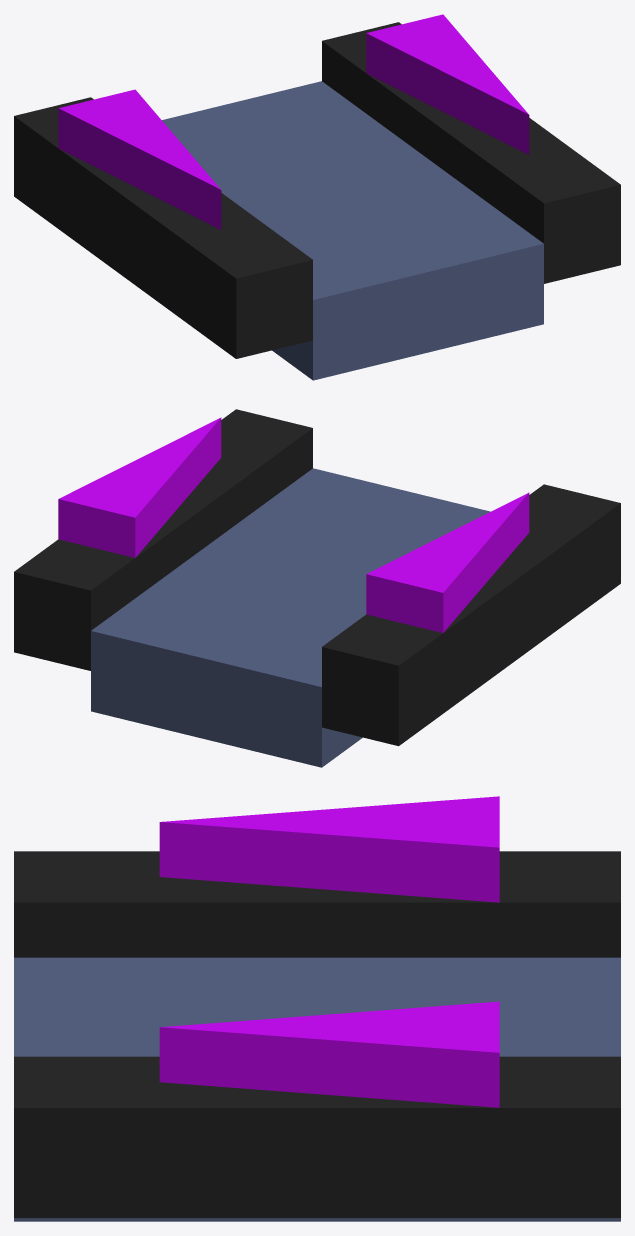
The model's file is Belt-Straight.fbx.
The picture shows the model from 3 angles, top to bottom: view 1: azimuth 30°, elevation 25°; view 2: azimuth 150°, elevation 25°; view 3: azimuth 270°, elevation 25°; orthographic projection. The views are drawn at different scales.
Parts seen in each view (by area): view 1: mergedBlocks; view 2: mergedBlocks; view 3: mergedBlocks.
Part boxes in pixels (left/top/right/bottom): mergedBlocks: left=14, top=14, right=620, bottom=380; mergedBlocks: left=14, top=409, right=620, bottom=767; mergedBlocks: left=14, top=796, right=620, bottom=1221.
Bounding box in the file's own units: 10 × 4 × 10.
1 material, 1 textured.
